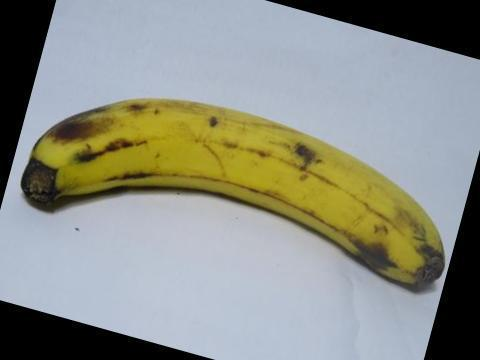ripe: (14, 81, 461, 300)
